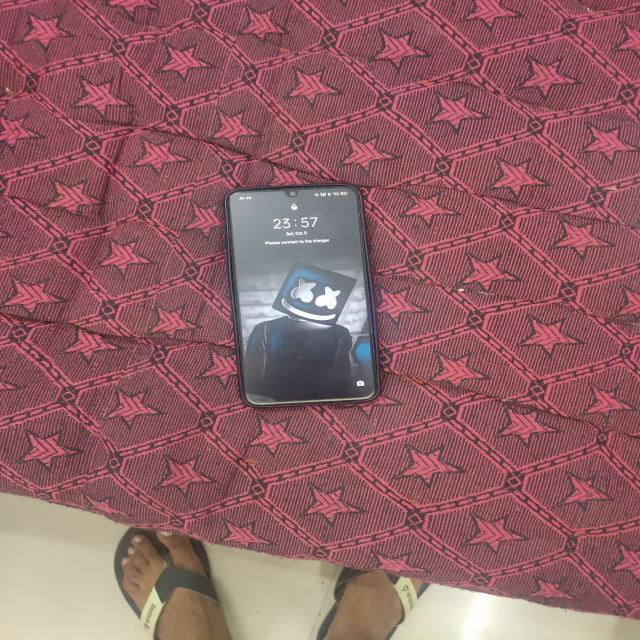Phone: (220, 182, 381, 410)
